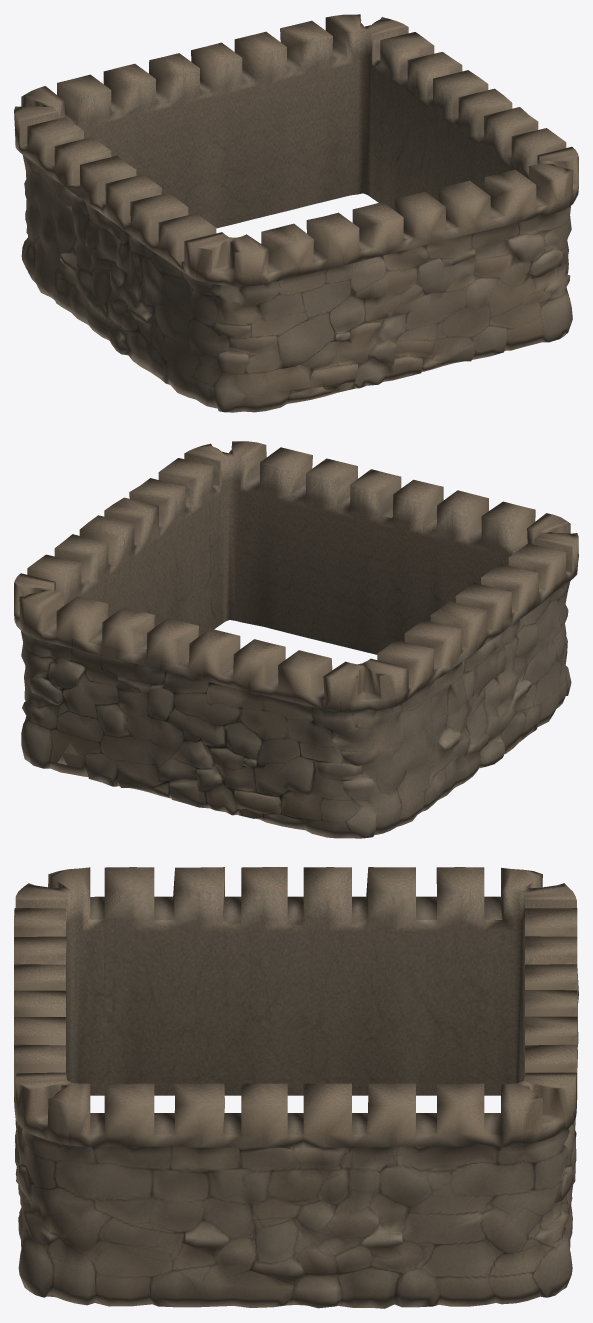
Rendered from sur_3_tas.glb.
3 views of the same model, one above another, from view 1: azimuth 30°, elevation 25°; view 2: azimuth 150°, elevation 25°; view 3: azimuth 270°, elevation 25° (orthographic). The views are drawn at different scales.
Size of the model in its own units: 0.9556 by 0.3867 by 0.9556.
Materials: 1 (1 with a texture image).
